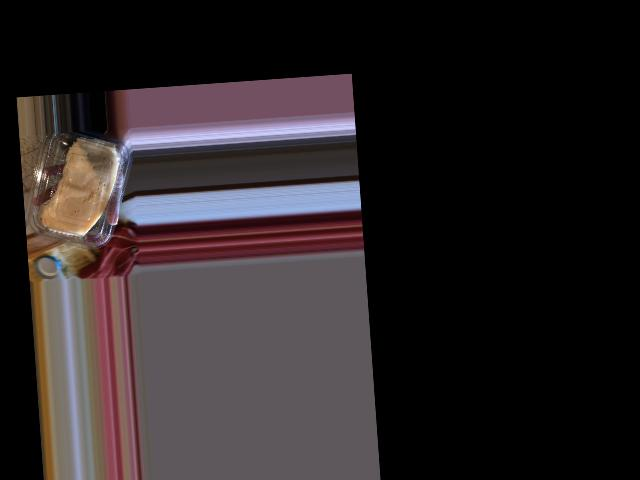cheese: (25, 127, 131, 254)
